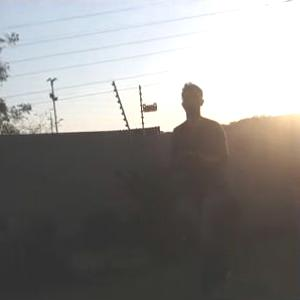follow: (167, 72, 237, 297)
